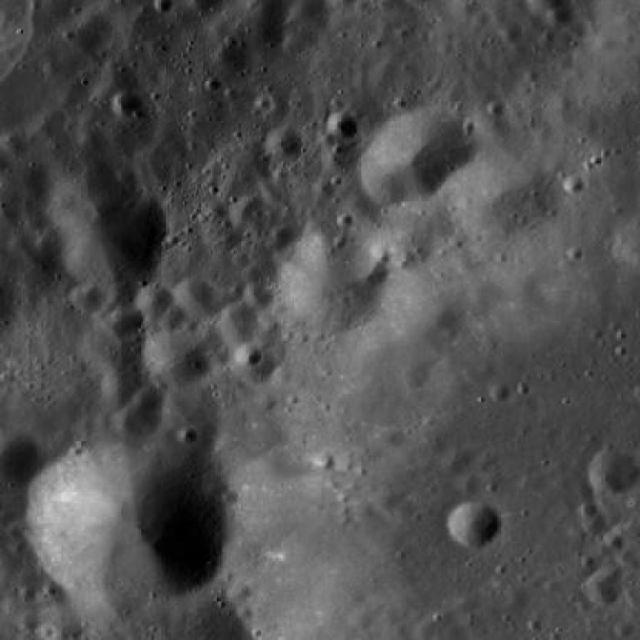crater: (28, 436, 224, 618), (53, 180, 172, 288), (271, 234, 384, 338), (355, 102, 468, 206), (448, 148, 556, 248), (371, 202, 438, 264), (144, 327, 208, 387), (80, 318, 142, 374), (209, 142, 268, 196), (0, 428, 42, 487), (589, 448, 640, 494), (451, 500, 502, 546), (197, 204, 246, 248), (94, 60, 140, 103), (218, 304, 262, 346), (98, 367, 142, 407), (580, 564, 623, 604), (339, 188, 381, 227), (236, 347, 275, 384), (174, 278, 214, 314), (125, 396, 164, 430), (238, 0, 290, 25), (134, 282, 172, 316), (105, 307, 142, 341), (265, 128, 301, 162), (76, 164, 112, 196), (132, 383, 166, 414), (356, 252, 390, 283), (506, 267, 540, 298), (72, 284, 105, 314), (215, 41, 248, 70), (110, 408, 142, 437), (290, 0, 327, 25), (113, 89, 144, 118), (327, 111, 358, 140), (443, 447, 474, 476), (398, 359, 428, 387), (230, 197, 258, 225), (108, 281, 137, 307), (578, 510, 606, 536), (374, 488, 402, 514), (0, 130, 28, 156), (406, 615, 434, 640), (258, 180, 284, 206), (245, 284, 273, 308), (236, 344, 261, 368), (35, 232, 60, 255), (379, 427, 404, 450), (548, 4, 572, 27), (0, 557, 23, 580), (502, 583, 526, 605), (322, 150, 346, 172), (8, 232, 32, 254), (272, 222, 296, 244), (284, 33, 307, 55), (457, 474, 480, 496), (374, 58, 397, 80), (314, 178, 338, 199), (210, 16, 232, 38), (80, 128, 102, 150), (454, 0, 482, 17), (230, 581, 252, 601), (313, 452, 335, 472), (466, 286, 488, 306), (499, 22, 521, 42), (178, 424, 199, 444), (158, 313, 178, 332), (598, 33, 618, 52), (394, 500, 414, 518), (490, 384, 510, 402), (272, 366, 292, 384), (210, 202, 228, 220), (575, 500, 594, 517), (119, 167, 138, 184), (475, 457, 493, 474), (564, 175, 582, 192), (487, 98, 505, 115), (614, 546, 632, 562), (20, 612, 38, 628), (19, 585, 36, 601), (374, 248, 392, 263), (616, 621, 632, 637), (318, 131, 334, 147), (154, 0, 174, 12)
